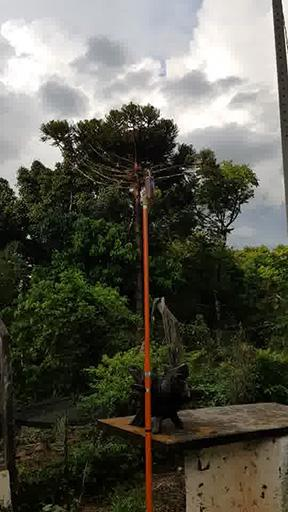Detector_Tensao_Contato: (144, 165, 156, 201)
Vara_Manobra: (142, 201, 155, 512)
